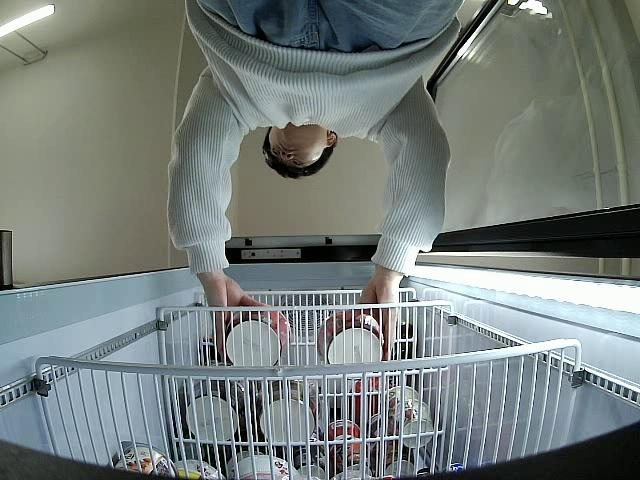00_hand: (205, 281, 273, 352), (354, 285, 401, 351)
01_shinRamen_L: (226, 301, 291, 366), (316, 313, 384, 365)
